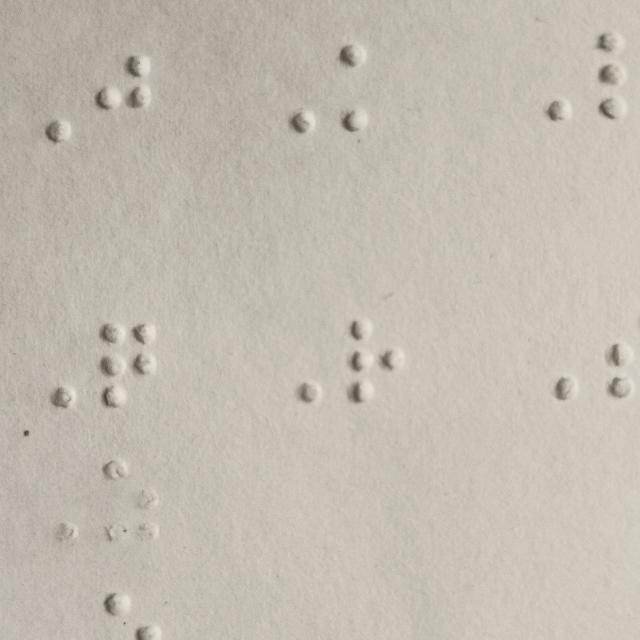J: (95, 55, 150, 139)
K: (338, 45, 394, 130)
W: (349, 318, 405, 403)
capital: (266, 318, 322, 403), (15, 57, 70, 142), (24, 326, 79, 411), (514, 40, 569, 125), (522, 318, 577, 403), (261, 52, 316, 136)
q: (102, 323, 157, 407)
